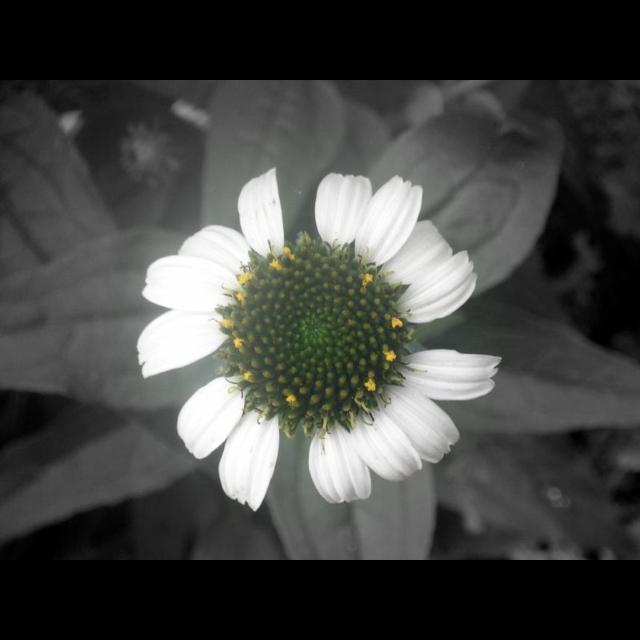Flower: (138, 175, 508, 513)
